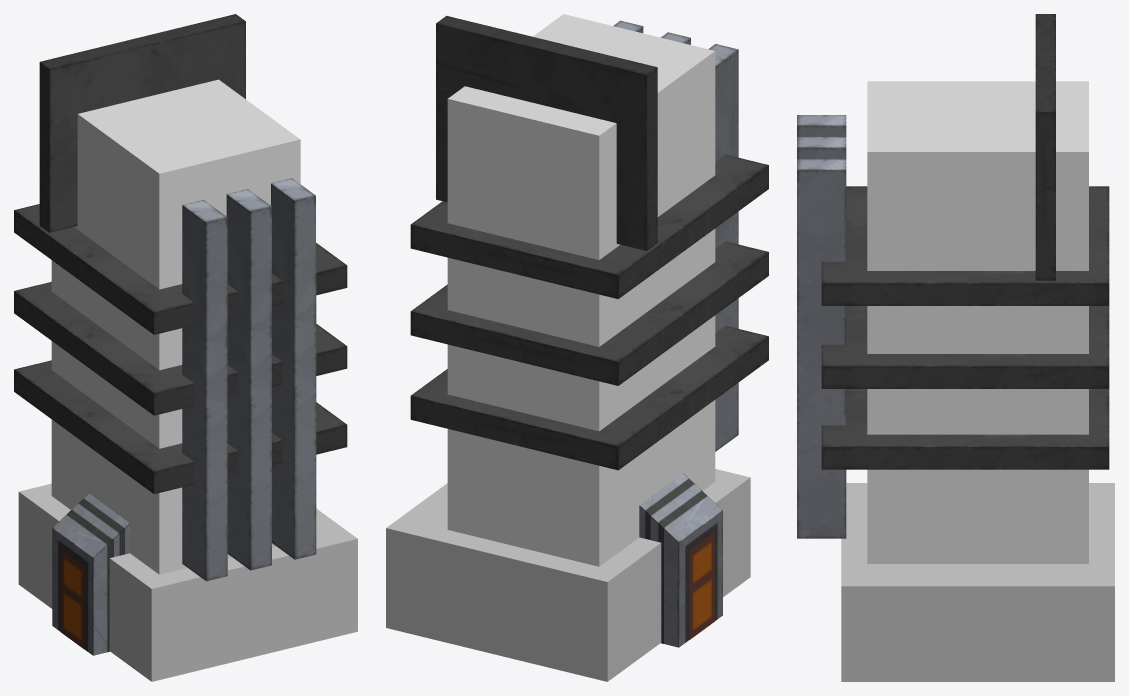
Rendered from building1.fbx.
The picture shows the model from 3 angles, left to right: view 1: azimuth 30°, elevation 25°; view 2: azimuth 150°, elevation 25°; view 3: azimuth 270°, elevation 25°; orthographic projection. The views are drawn at different scales.
Parts seen in each view (by area): view 1: Cube.180; view 2: Cube.180; view 3: Cube.180.
Part boxes in pixels (bbox=[...]): Cube.180: bbox=[14, 14, 357, 681]; Cube.180: bbox=[386, 14, 768, 681]; Cube.180: bbox=[797, 14, 1114, 681].
Size of the model in its own units: 160 by 375 by 192.
